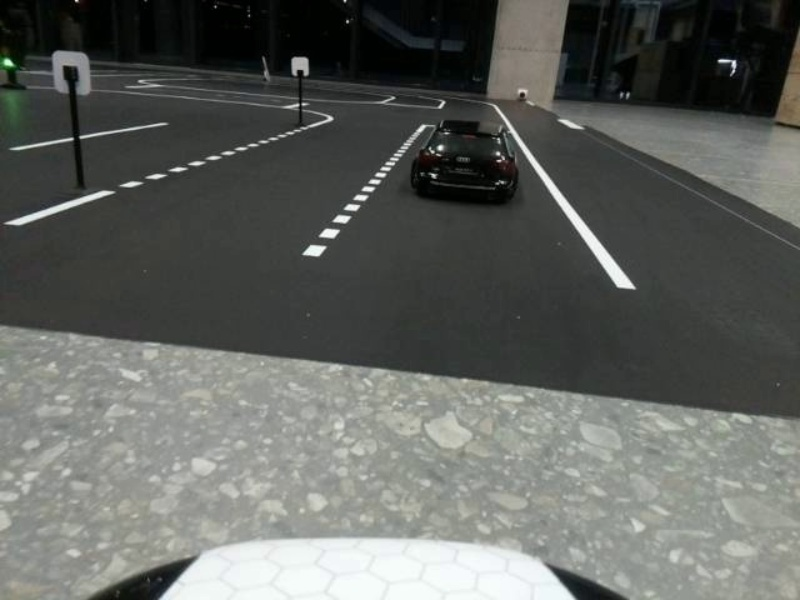car: (414, 112, 523, 212)
